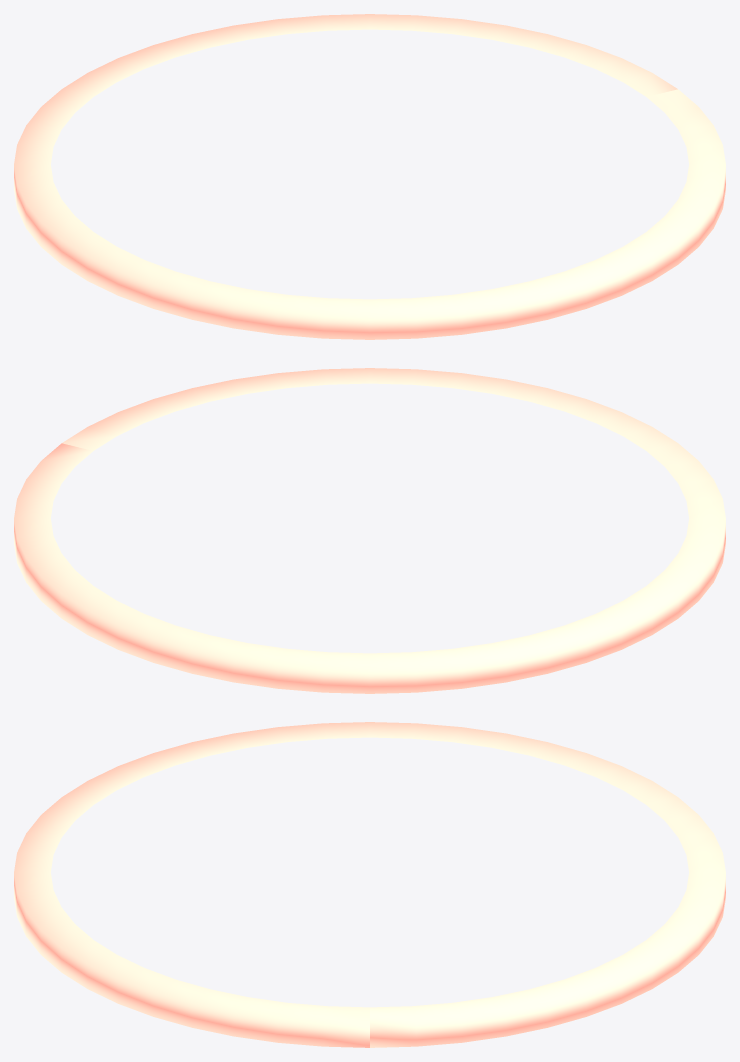
Rendered from ring_no.glb.
3 renders of one model, top to bottom at view 1: azimuth 30°, elevation 25°; view 2: azimuth 150°, elevation 25°; view 3: azimuth 270°, elevation 25°, orthographic.
Visible parts, largest first — view 1: ring; view 2: ring; view 3: ring.
Boxes of the visible parts, x1,y1,x2,y2 form: ring: (14, 14, 725, 339); ring: (14, 368, 725, 693); ring: (14, 722, 725, 1047).
Bounding box in the file's own units: 4.64 × 0.18 × 4.64.
